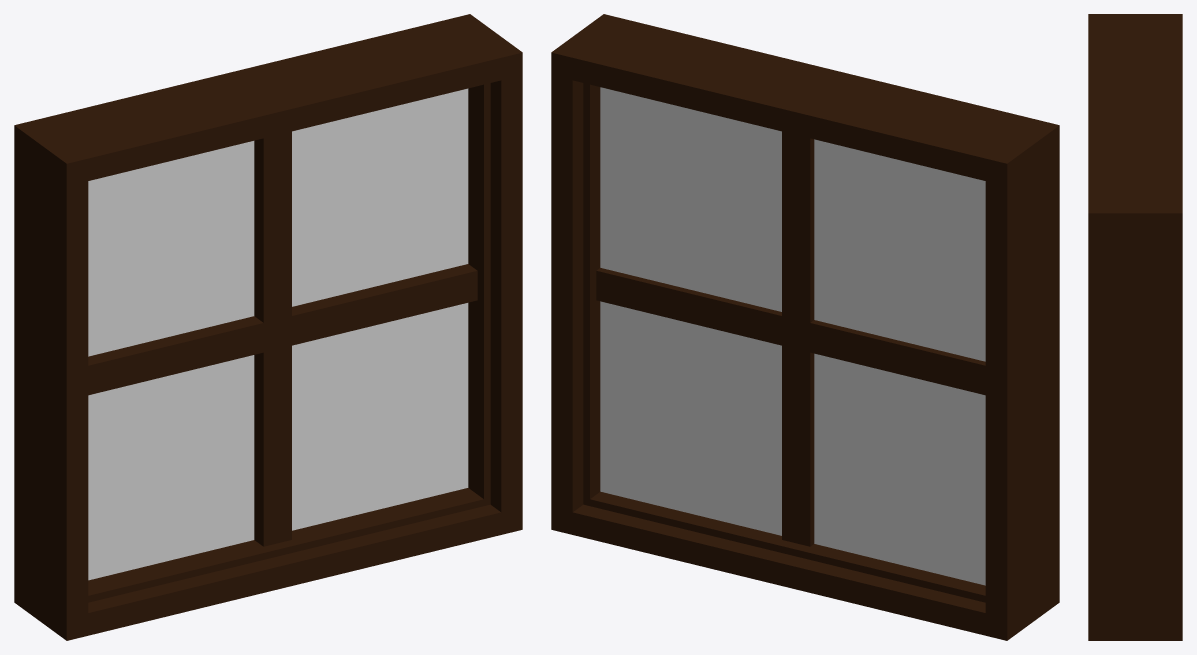
File: Window_Cross.fbx
The picture shows the model from 3 angles, left to right: view 1: azimuth 30°, elevation 25°; view 2: azimuth 150°, elevation 25°; view 3: azimuth 270°, elevation 25°; orthographic projection. The views are drawn at different scales.
Parts seen in each view (by area): view 1: Window_Cross, Window_Cross.001; view 2: Window_Cross, Window_Cross.001; view 3: Window_Cross.
Part boxes in pixels (left/top/right/bottom): Window_Cross: left=14, top=14, right=522, bottom=640; Window_Cross.001: left=88, top=88, right=468, bottom=580; Window_Cross: left=551, top=14, right=1059, bottom=640; Window_Cross.001: left=600, top=87, right=985, bottom=585; Window_Cross: left=1088, top=14, right=1182, bottom=640.
Size of the model in its own units: 50 by 50 by 10.
